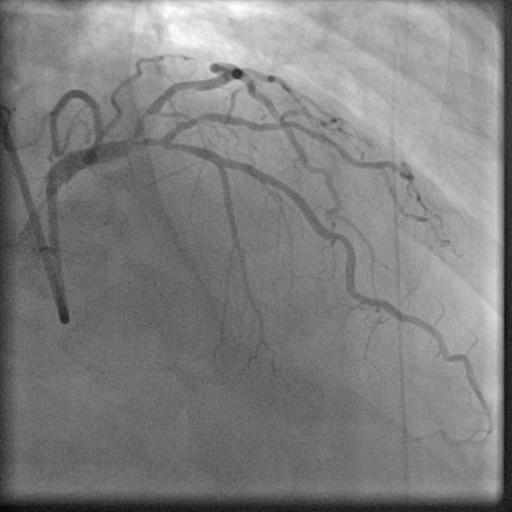Stenosis: (131, 107, 159, 123)
